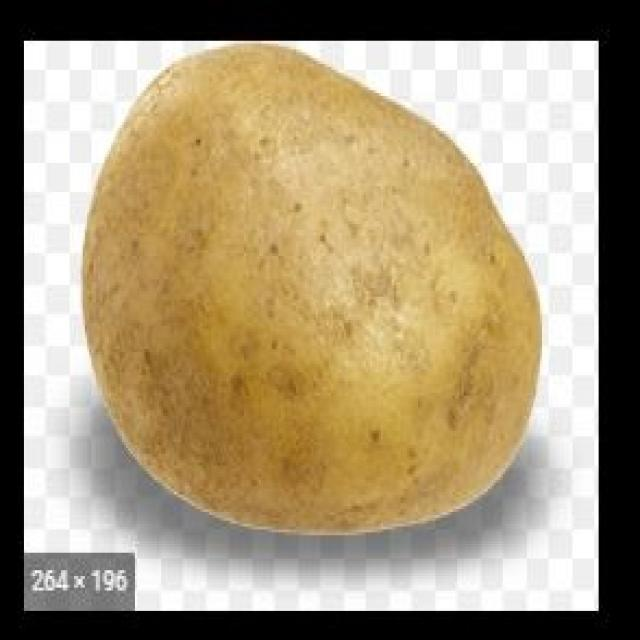Potato: (80, 44, 545, 537)
